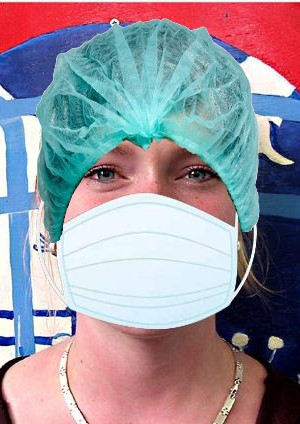with_mask_and_cap: (39, 23, 259, 332)
